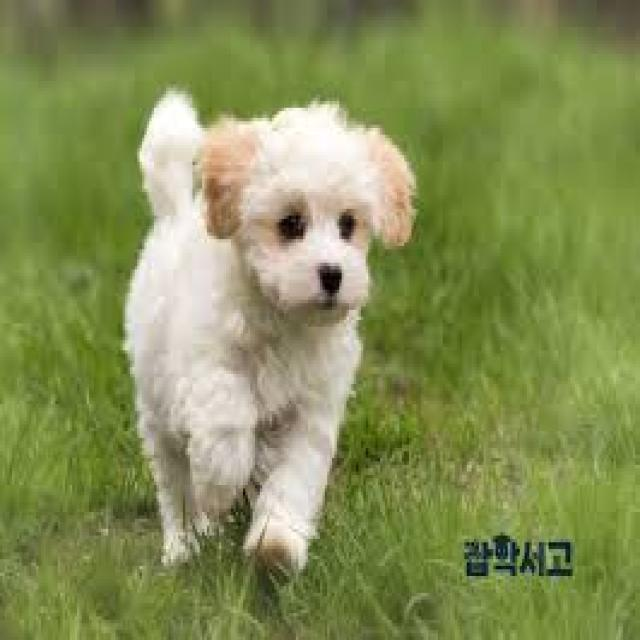dogs: (108, 71, 424, 586)
